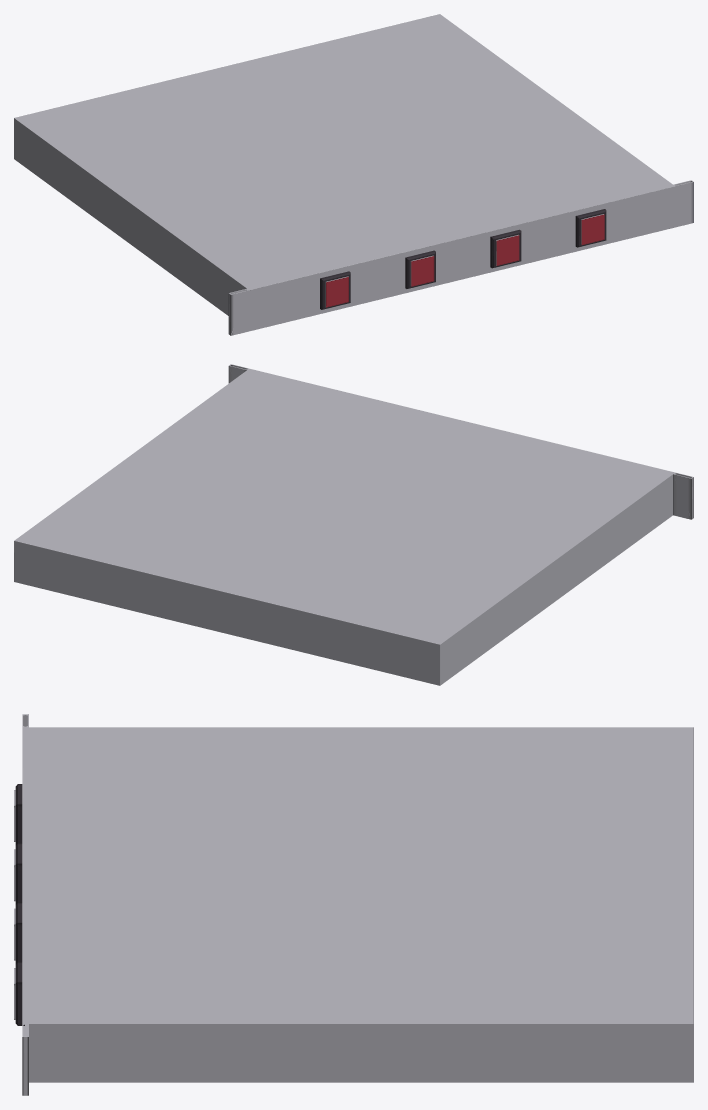
File: StatusIndicator.fbx
3 views of the same model, one above another, from view 1: azimuth 30°, elevation 25°; view 2: azimuth 150°, elevation 25°; view 3: azimuth 270°, elevation 25° (orthographic). The views are drawn at different scales.
Parts seen in each view (by area): view 1: Rack_Base, pCube4, pCube5, pCube2, pCube3; view 2: Rack_Base; view 3: Rack_Base.
Part boxes in pixels (bbox=[...]): Rack_Base: bbox=[14, 14, 693, 335]; pCube4: bbox=[490, 229, 521, 268]; pCube5: bbox=[575, 209, 606, 247]; pCube2: bbox=[320, 271, 350, 309]; pCube3: bbox=[405, 250, 435, 288]; Rack_Base: bbox=[14, 364, 693, 685]; Rack_Base: bbox=[22, 714, 693, 1095].
Bounding box in the file's own units: 0.5245 × 0.0445 × 0.4675.
1 material, 1 textured.
